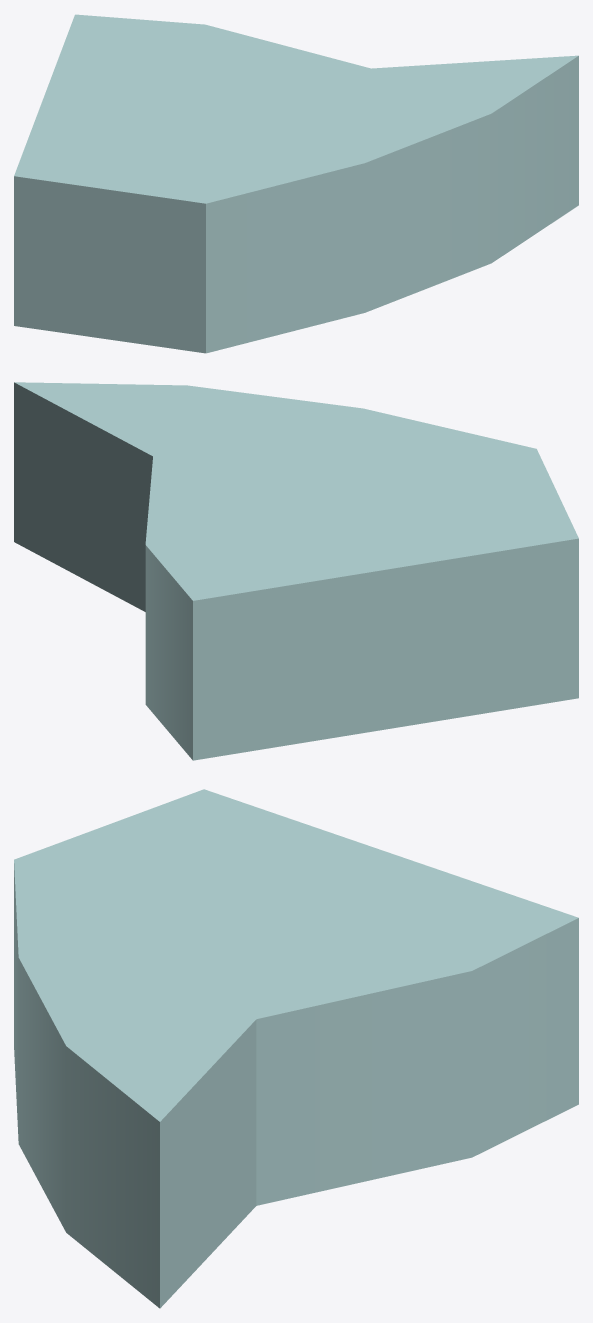
The model's file is miaoli.glb.
3 renders of one model, top to bottom at view 1: azimuth 30°, elevation 25°; view 2: azimuth 150°, elevation 25°; view 3: azimuth 270°, elevation 25°, orthographic. The views are drawn at different scales.
Visible parts, largest first — view 1: map_geo Miaoli_geo; view 2: map_geo Miaoli_geo; view 3: map_geo Miaoli_geo.
Part boxes in pixels (<box>): map_geo Miaoli_geo: <box>14,14,578,353</box>; map_geo Miaoli_geo: <box>14,382,578,760</box>; map_geo Miaoli_geo: <box>14,789,578,1308</box>.
Size of the model in its own units: 1.06 by 0.2781 by 0.7628.
1 material, 1 textured.
